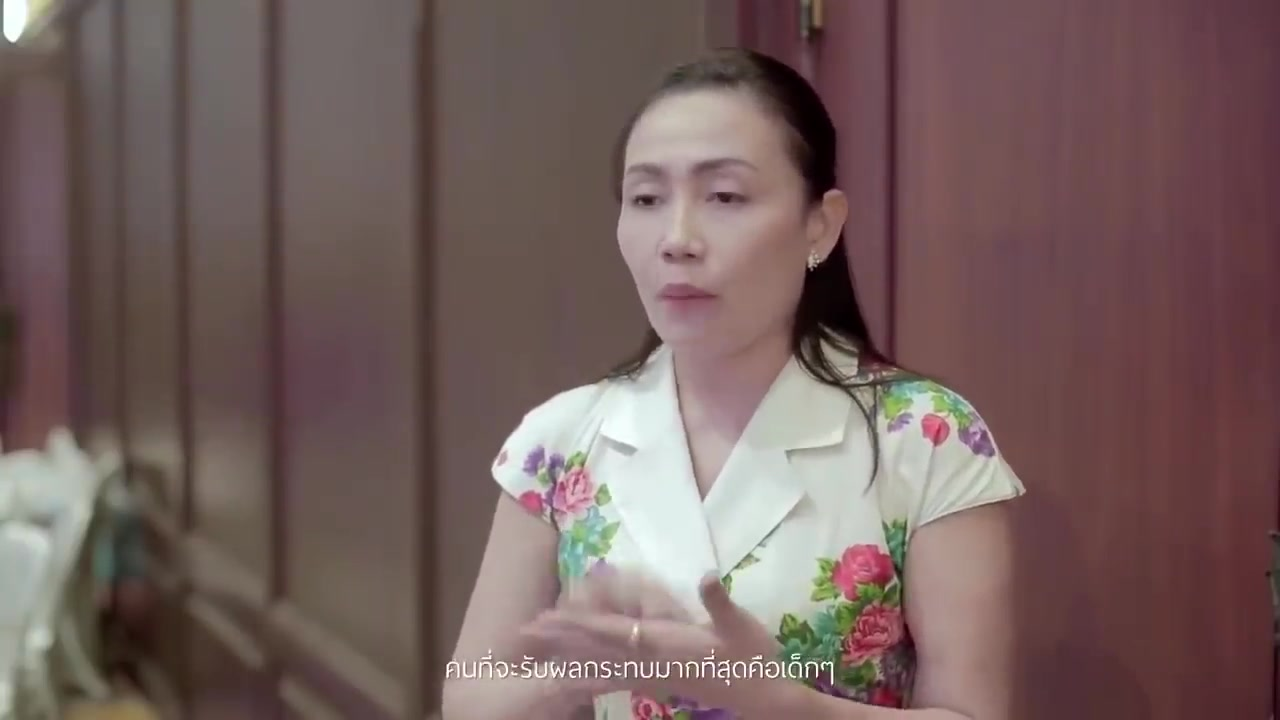text-label: (443, 643, 839, 693)
